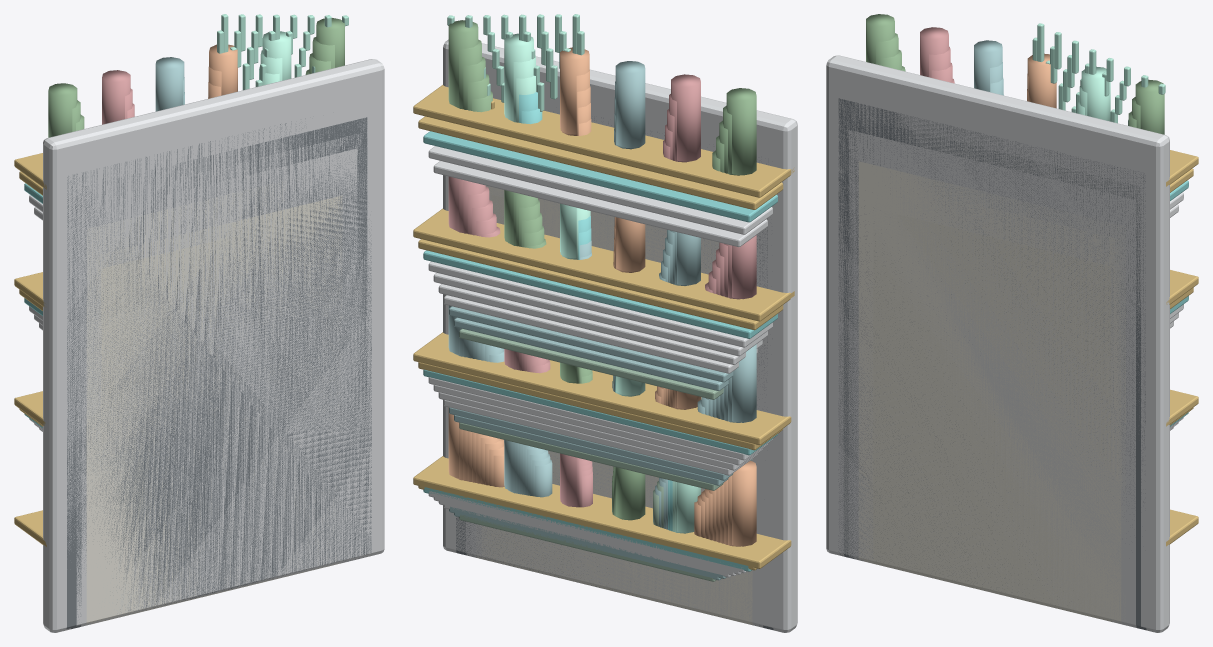
File: Gear12.fbx
3 renders of one model, left to right at view 1: azimuth 30°, elevation 25°; view 2: azimuth 150°, elevation 25°; view 3: azimuth 330°, elevation 25°, orthographic. The views are drawn at different scales.
Parts seen in each view (by area): view 1: Gear12_V10_Platinum, Gear12_V8_Graphite, Gear12_V7_Graphite, Gear12_V9_Platinum, Gear12_V4_Linen, Gear12_V1_Ivory, Gear12_V5_Platinum, Gear12_V2_Ivory, Gear12_V6_Platinum, Gear12_V10_Gold, Gear12_V10_Leaf, Gear12_V10_Glow (+6 smaller); view 2: Gear12_V10_Gold, Gear12_V10_Platinum, Gear12_V8_Aqua, Gear12_V3_Linen, Gear12_V7_Platinum, Gear12_V6_Platinum, Gear12_V9_Gold, Gear12_V9_Platinum, Gear12_V5_Platinum, Gear12_V2_Blue, Gear12_V4_Platinum, Gear12_V3_Blue (+38 smaller); view 3: Gear12_V1_Ivory, Gear12_V10_Platinum, Gear12_V6_Platinum, Gear12_V3_Linen, Gear12_V4_Linen, Gear12_V9_Platinum, Gear12_V7_Graphite, Gear12_V8_Graphite, Gear12_V5_Platinum, Gear12_V10_Glow, Gear12_V10_Gold, Gear12_V10_Leaf (+6 smaller).
Part boxes in pixels (x1=…): Gear12_V10_Platinum: x1=43, y1=59, x2=384, y2=632; Gear12_V8_Graphite: x1=66, y1=118, x2=371, y2=628; Gear12_V7_Graphite: x1=71, y1=117, x2=367, y2=629; Gear12_V9_Platinum: x1=61, y1=86, x2=376, y2=629; Gear12_V4_Linen: x1=86, y1=174, x2=336, y2=623; Gear12_V1_Ivory: x1=101, y1=227, x2=335, y2=567; Gear12_V5_Platinum: x1=39, y1=148, x2=357, y2=626; Gear12_V2_Ivory: x1=96, y1=195, x2=342, y2=622; Gear12_V6_Platinum: x1=34, y1=133, x2=362, y2=626; Gear12_V10_Gold: x1=14, y1=153, x2=46, y2=546; Gear12_V10_Leaf: x1=48, y1=18, x2=344, y2=137; Gear12_V10_Glow: x1=221, y1=14, x2=348, y2=80; Gear12_V10_Gold: x1=413, y1=85, x2=794, y2=568; Gear12_V10_Platinum: x1=443, y1=39, x2=797, y2=632; Gear12_V8_Aqua: x1=423, y1=131, x2=777, y2=571; Gear12_V3_Linen: x1=481, y1=185, x2=747, y2=620; Gear12_V7_Platinum: x1=428, y1=146, x2=772, y2=573; Gear12_V6_Platinum: x1=433, y1=161, x2=767, y2=627; Gear12_V9_Gold: x1=418, y1=116, x2=783, y2=570; Gear12_V9_Platinum: x1=450, y1=73, x2=777, y2=627; Gear12_V5_Platinum: x1=438, y1=219, x2=762, y2=623; Gear12_V2_Blue: x1=454, y1=317, x2=728, y2=580; Gear12_V4_Platinum: x1=444, y1=295, x2=757, y2=577; Gear12_V3_Blue: x1=449, y1=306, x2=752, y2=578; Gear12_V1_Ivory: x1=873, y1=211, x2=1111, y2=621; Gear12_V10_Platinum: x1=826, y1=55, x2=1169, y2=632; Gear12_V6_Platinum: x1=848, y1=130, x2=1178, y2=627; Gear12_V3_Linen: x1=863, y1=187, x2=1121, y2=623; Gear12_V4_Linen: x1=858, y1=161, x2=1125, y2=622; Gear12_V9_Platinum: x1=834, y1=82, x2=1150, y2=628; Gear12_V7_Graphite: x1=843, y1=115, x2=1141, y2=627; Gear12_V8_Graphite: x1=838, y1=98, x2=1146, y2=630; Gear12_V5_Platinum: x1=853, y1=146, x2=1173, y2=561; Gear12_V10_Glow: x1=1037, y1=23, x2=1165, y2=121; Gear12_V10_Gold: x1=1166, y1=150, x2=1198, y2=546; Gear12_V10_Leaf: x1=866, y1=14, x2=1164, y2=134.
Size of the model in its own units: 136 by 217 by 27.
